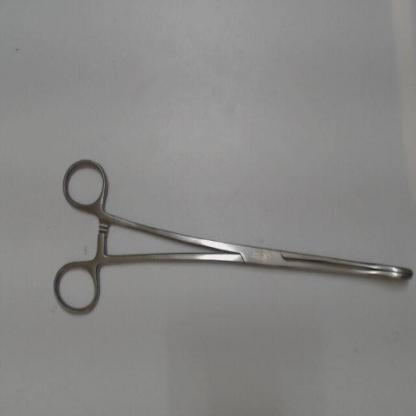Sponge Forceps: (47, 153, 416, 324)
